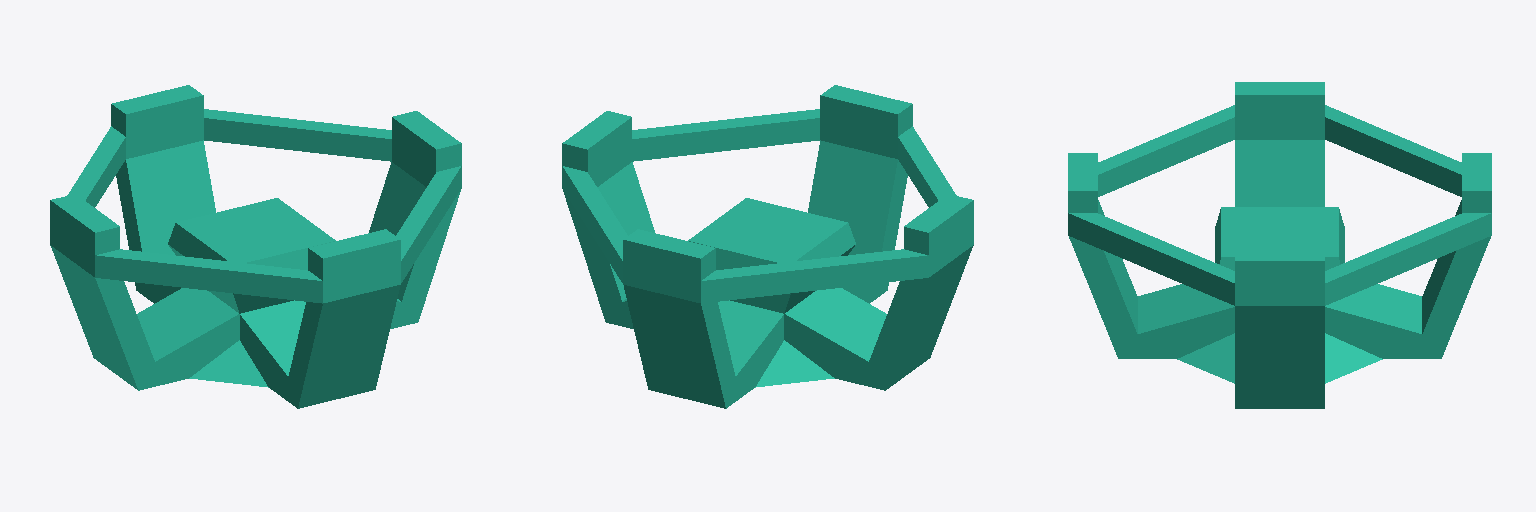
The model's file is fireBasket.obj.
The picture shows the model from 3 angles: view 1: azimuth 30°, elevation 25°; view 2: azimuth 150°, elevation 25°; view 3: azimuth 270°, elevation 25°; orthographic projection.
Visible parts, largest first — view 1: fireBasket; view 2: fireBasket; view 3: fireBasket.
Part boxes in pixels (bbox=[...]): fireBasket: bbox=[50, 85, 461, 408]; fireBasket: bbox=[562, 85, 973, 408]; fireBasket: bbox=[1068, 82, 1491, 408].
Size of the model in its own units: 0.2731 by 0.12 by 0.2731.